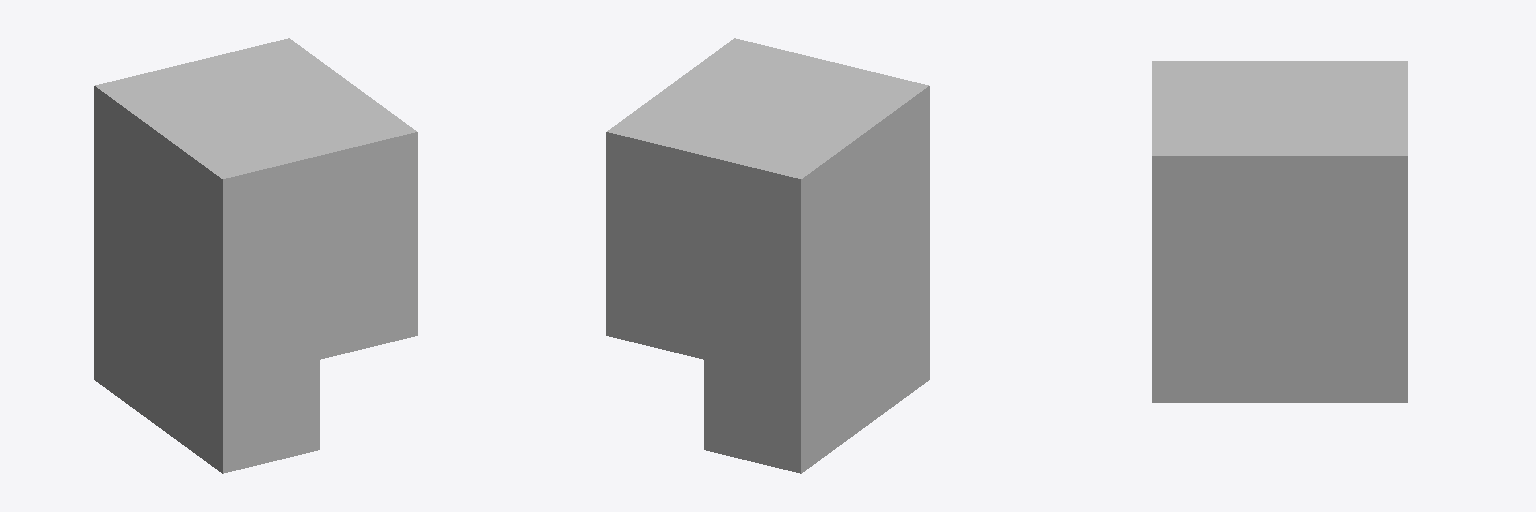
File: handRight.obj
The picture shows the model from 3 angles: view 1: azimuth 30°, elevation 25°; view 2: azimuth 150°, elevation 25°; view 3: azimuth 270°, elevation 25°; orthographic projection.
Parts seen in each view (by area): view 1: Cube.001_Cube.002; view 2: Cube.001_Cube.002; view 3: Cube.001_Cube.002.
Boxes of the visible parts, x1,y1,x2,y2 form: Cube.001_Cube.002: [94, 38, 417, 473]; Cube.001_Cube.002: [606, 38, 929, 473]; Cube.001_Cube.002: [1152, 61, 1407, 402].
Size of the model in its own units: 0.349 by 0.5037 by 0.3972.